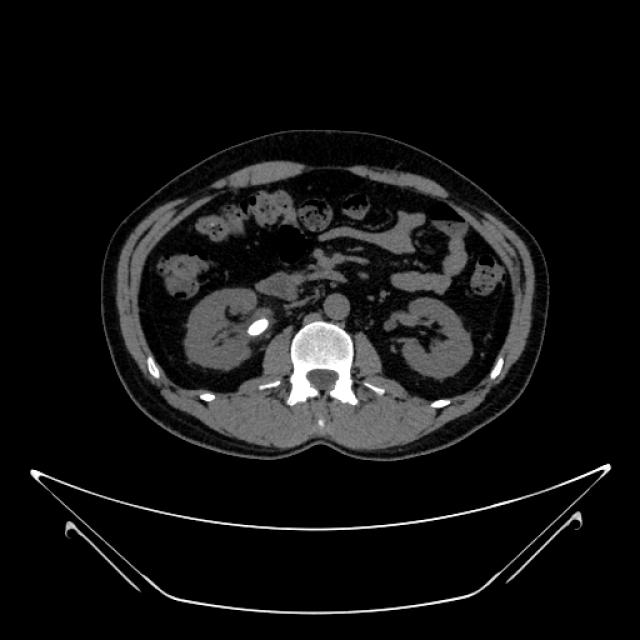kidney: (183, 289, 281, 373), (385, 297, 472, 381)
stone: (247, 317, 270, 335)
